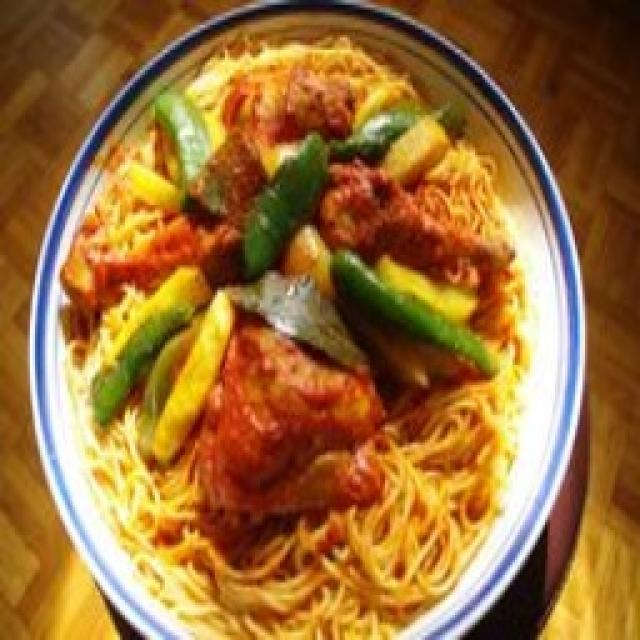Pasta: (34, 4, 530, 640)
